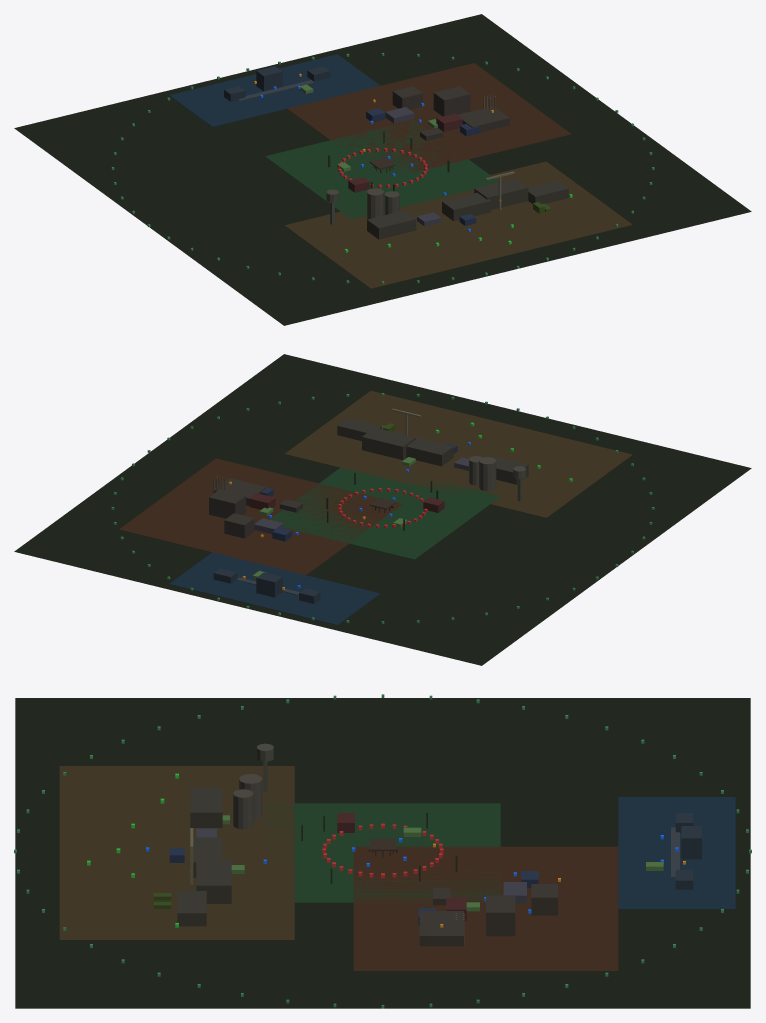
File: Barburhen_Map.obj
3 renders of one model, top to bottom at view 1: azimuth 30°, elevation 25°; view 2: azimuth 150°, elevation 25°; view 3: azimuth 270°, elevation 25°, orthographic. The views are drawn at different scales.
Size of the model in its own units: 502 by 35.5 by 502.
